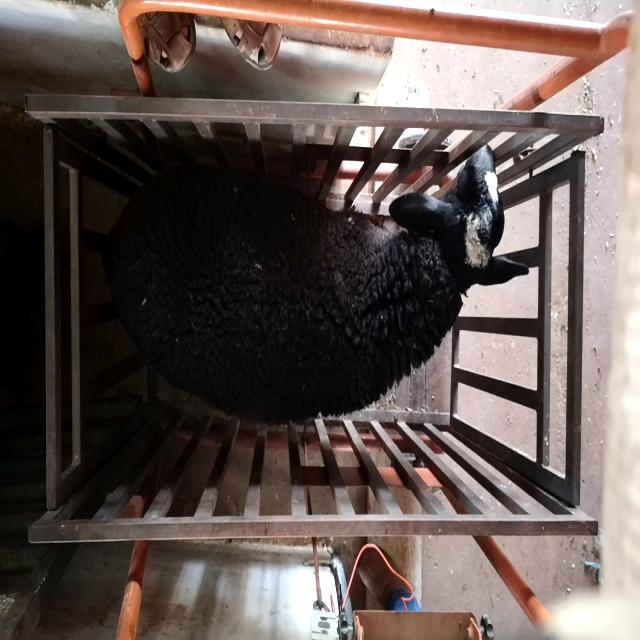sheep: (100, 143, 528, 424)
